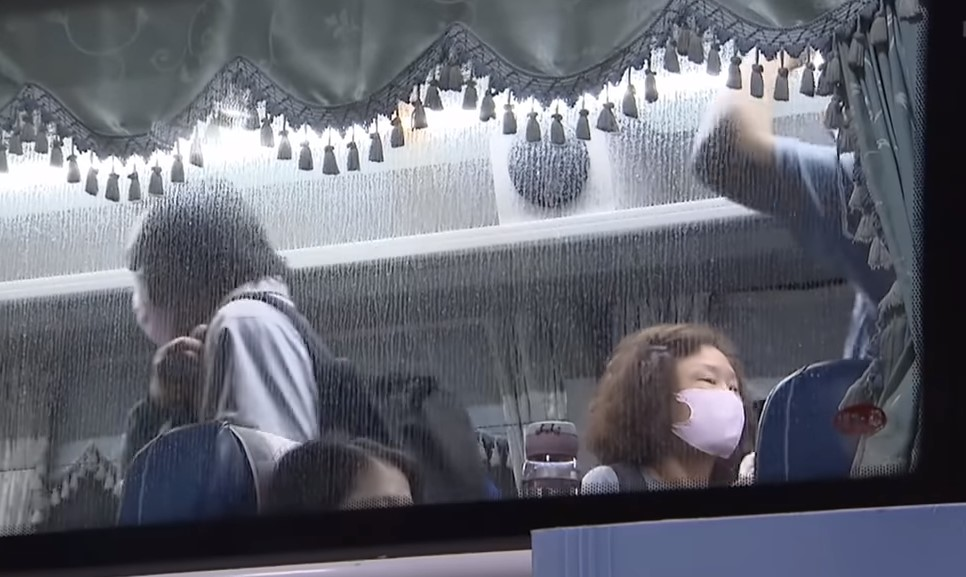face_with_mask: (126, 181, 254, 344), (618, 323, 750, 464)
